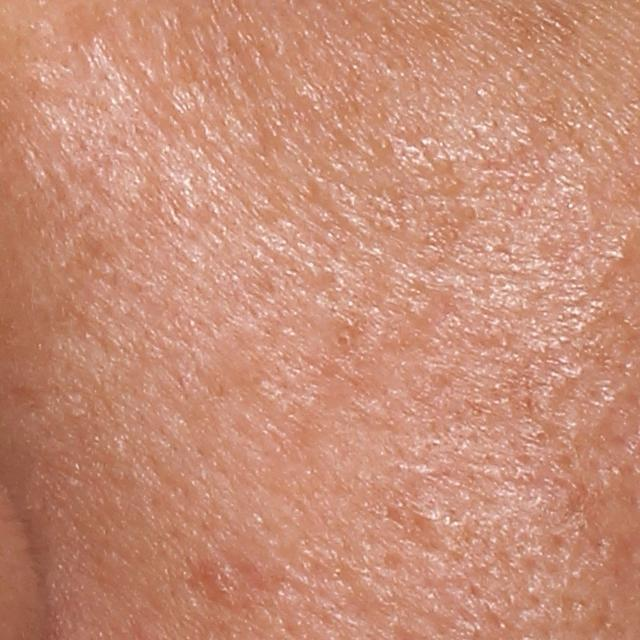atrophic_scar: (380, 500, 459, 561), (182, 556, 239, 620)
comedo: (608, 245, 632, 268), (334, 332, 352, 351)
